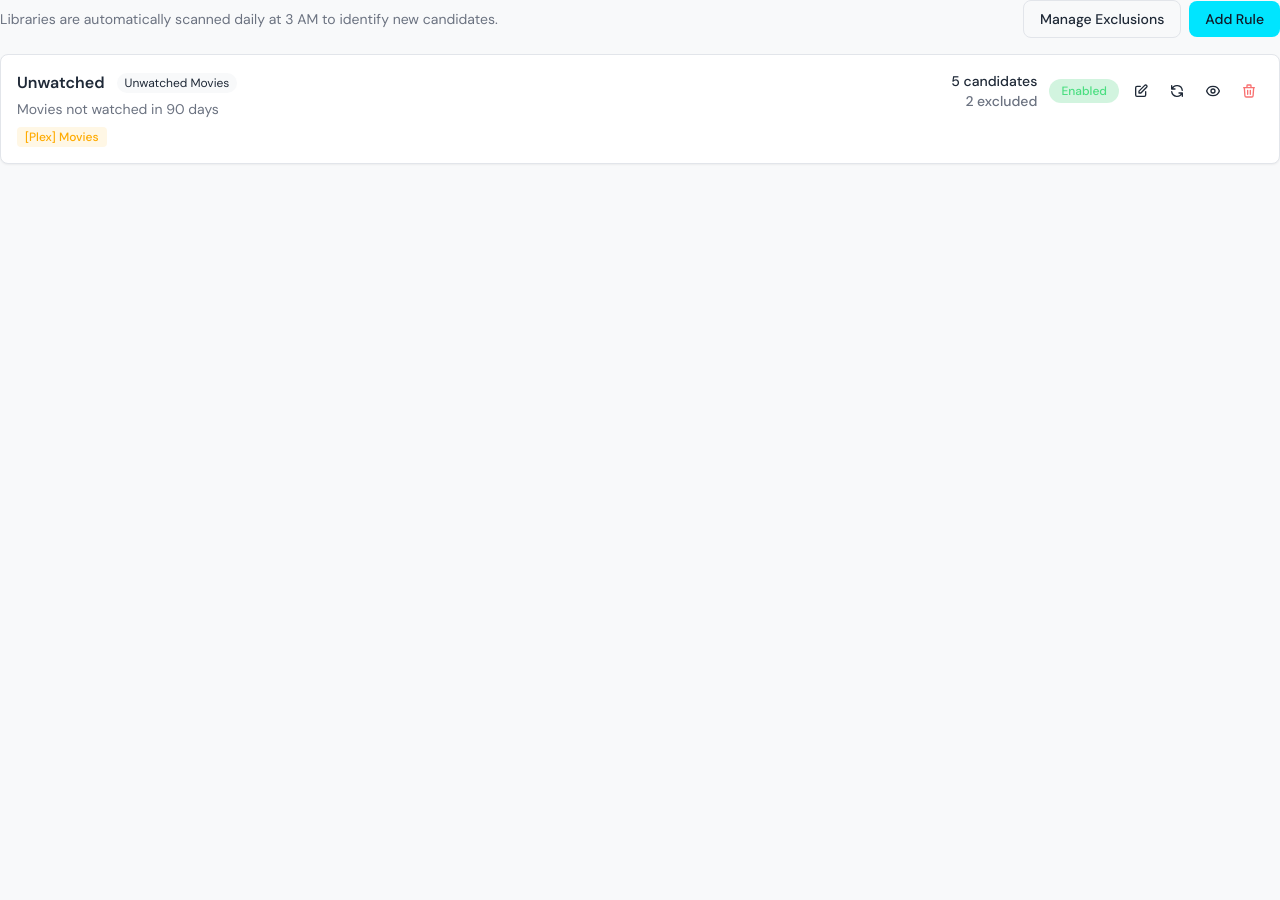
Scenario: MaintenanceRulesTab clickable titles › GlobalExclusionsView › opens MediaDetailModal when exclusion title is clicked
The width and height of the screenshot is (1280, 900).
Click the button "5 candidates". click: [994, 81]
box: [951,71,1037,91]
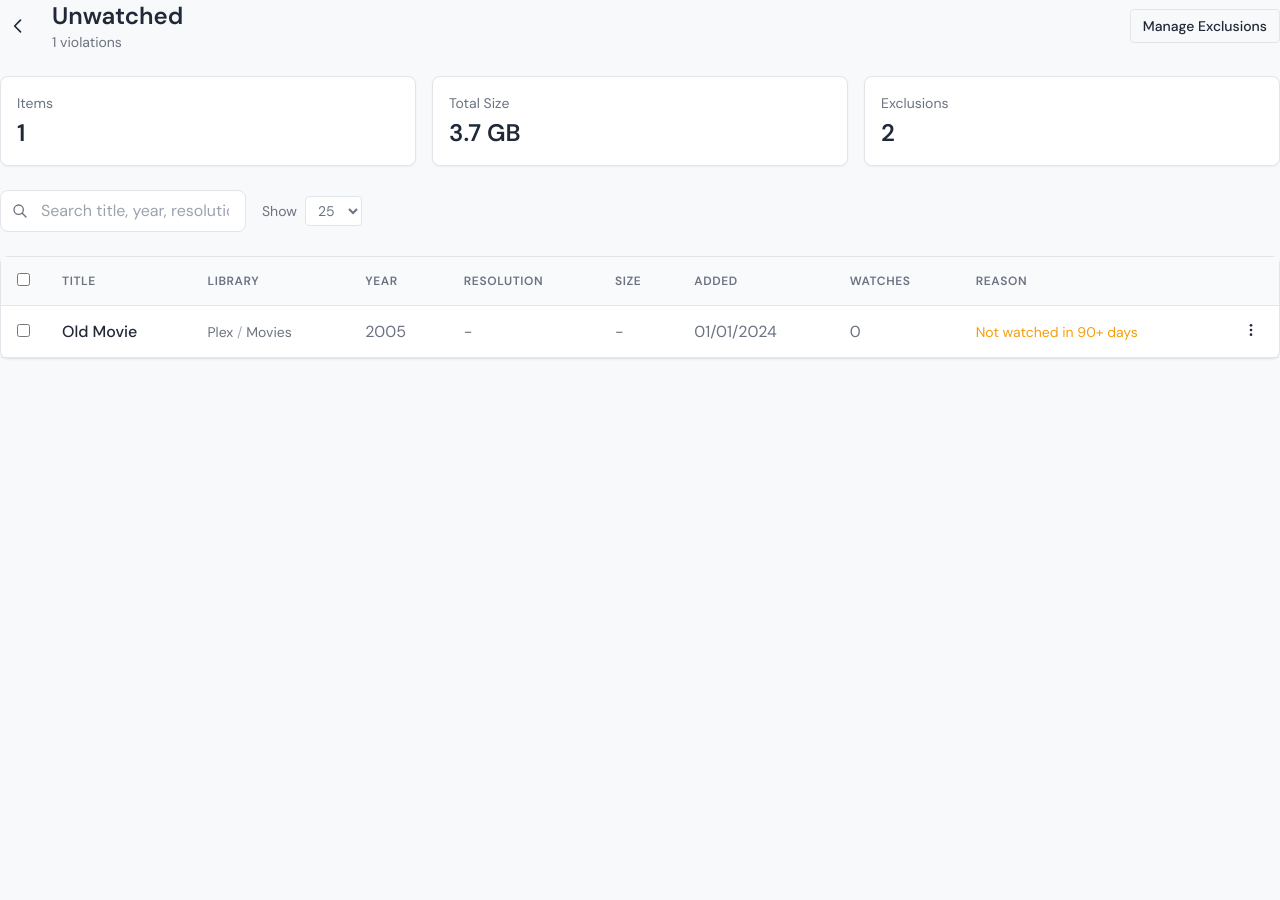
Result: the button "Manage Exclusions" is shown
Click the button "Manage Exclusions". click: [1205, 26]
box: [1130,9,1279,43]
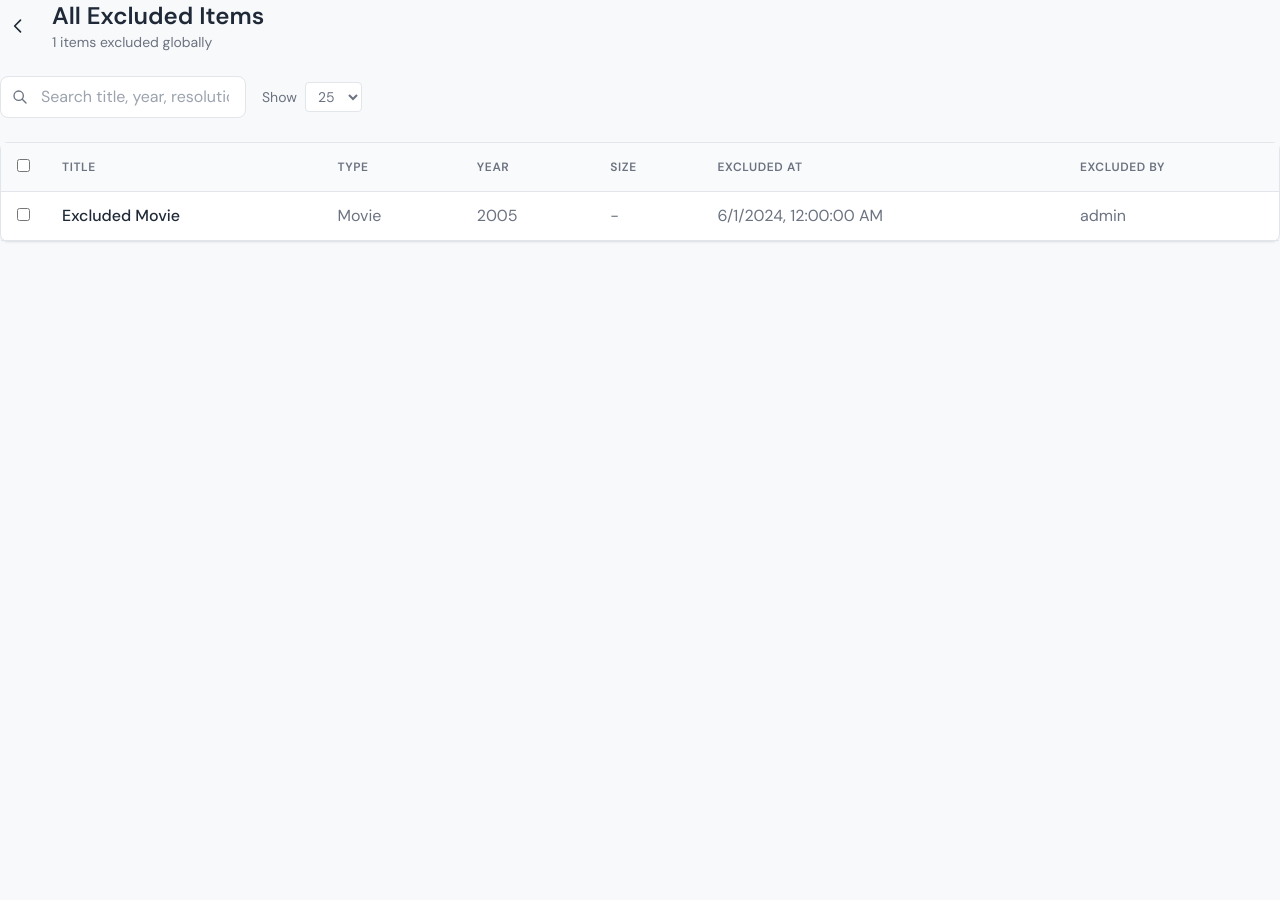
Result: the button "Excluded Movie" is shown
Click the button with aria-label "View details for Excluded Movie". click: [121, 216]
box: [62,204,180,228]
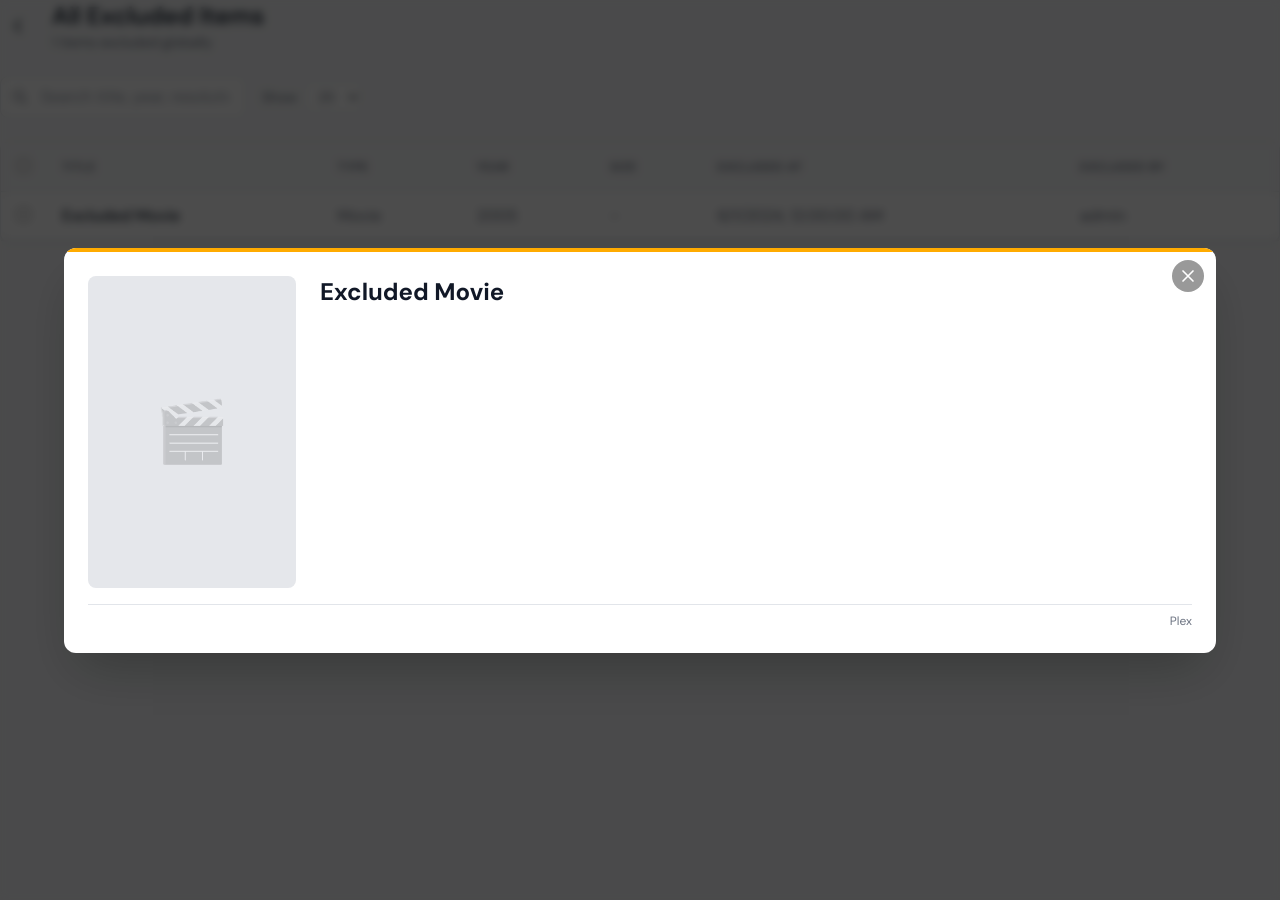
Result: the dialog is shown
